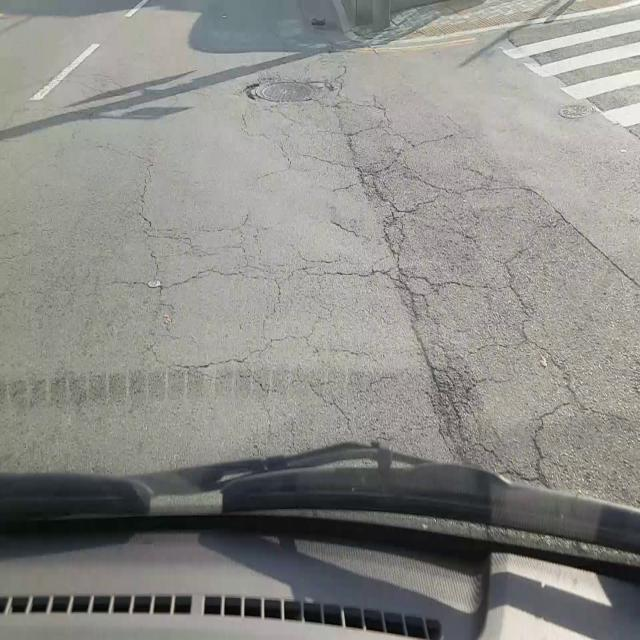Pothole: (243, 82, 320, 102)
